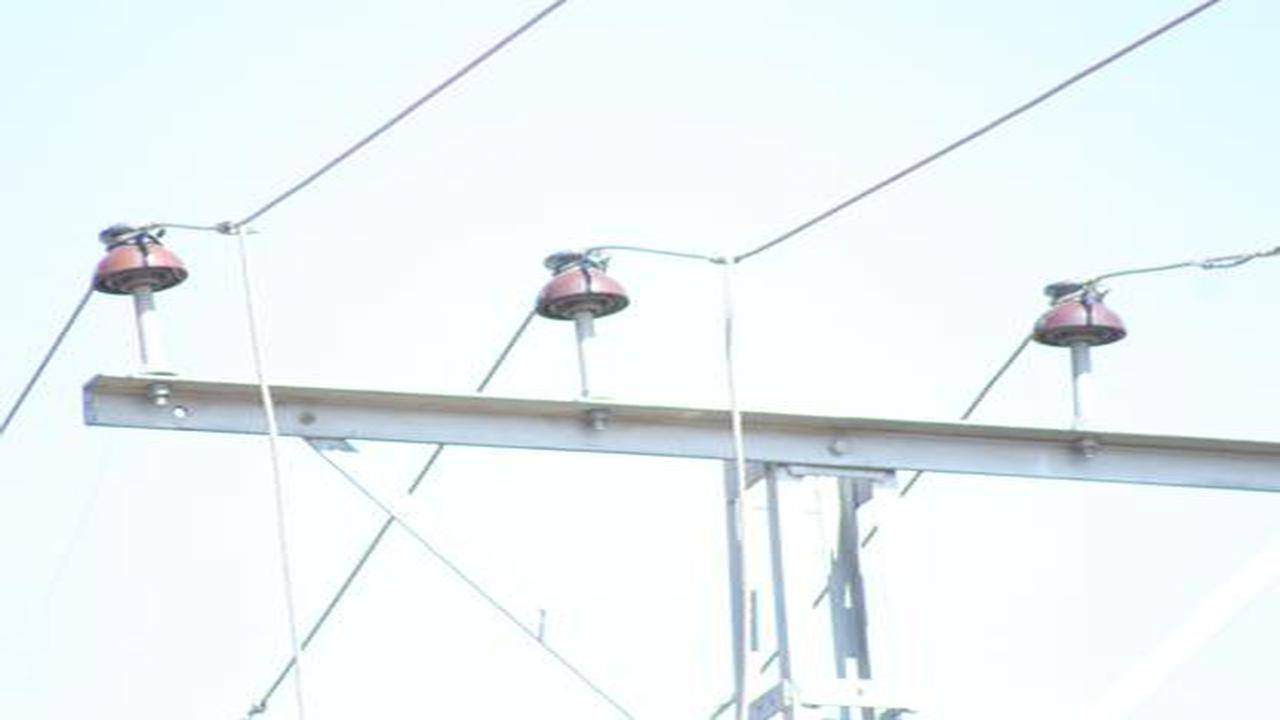insulator_pin: (532, 247, 630, 326), (95, 219, 192, 296), (1028, 276, 1130, 349)
